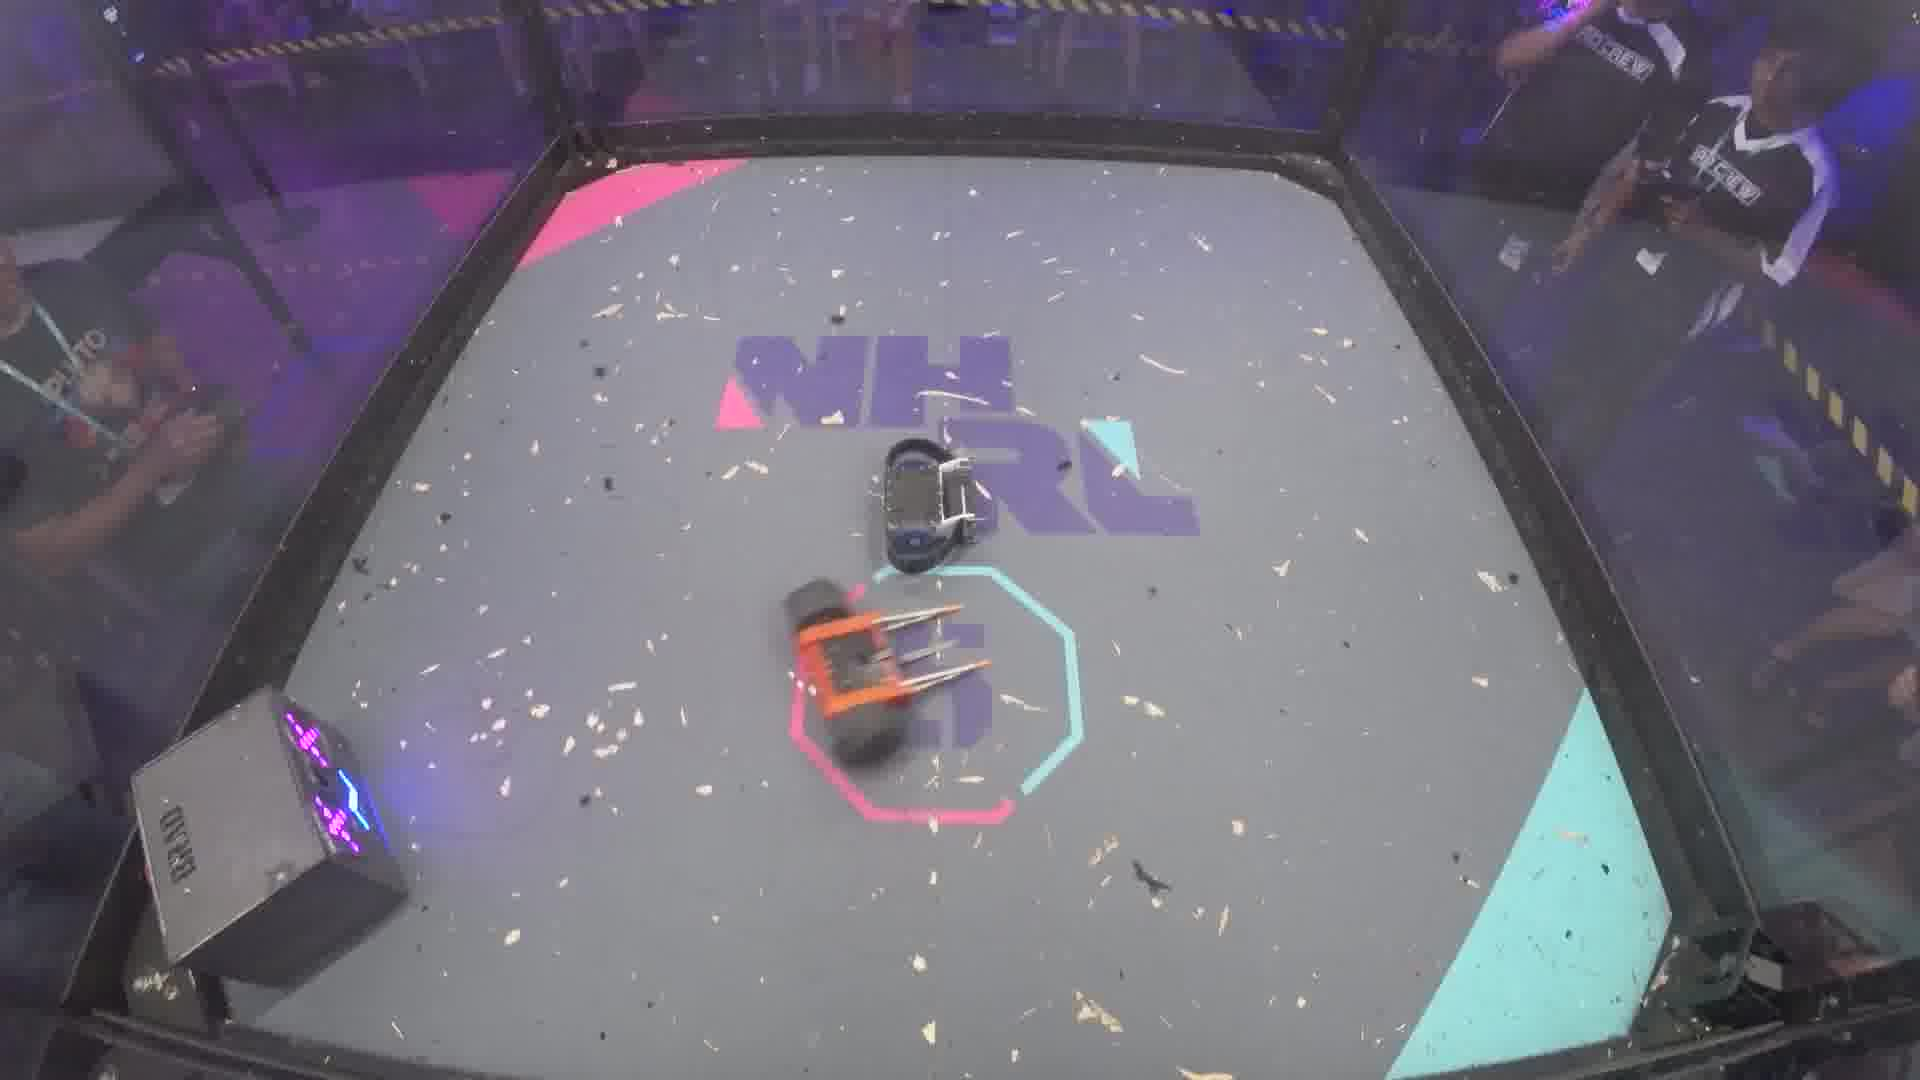combatbot: (785, 576, 993, 771), (873, 435, 993, 572)
housebot: (128, 683, 415, 985)
